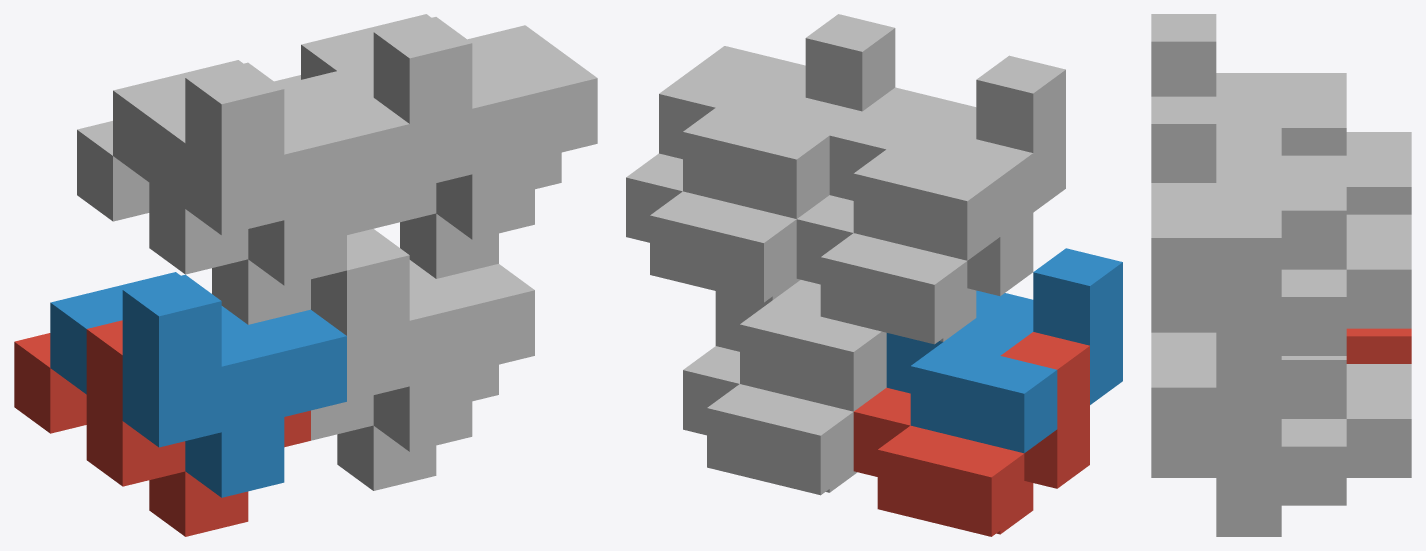
Rendered from tiling.obj.
3 renders of one model, left to right at view 1: azimuth 30°, elevation 25°; view 2: azimuth 150°, elevation 25°; view 3: azimuth 270°, elevation 25°, orthographic. The views are drawn at different scales.
Parts seen in each view (by area): view 1: copy_1_domain_4, copy_1_domain_2, copy_1_domain_8, copy_1_domain_6, copy_1_domain_1, copy_1_domain_3, copy_1_domain_7, copy_1_domain_5; view 2: copy_1_domain_4, copy_1_domain_8, copy_1_domain_2, copy_1_domain_3, copy_1_domain_1, copy_1_domain_7, copy_1_domain_5, copy_1_domain_6; view 3: copy_1_domain_8, copy_1_domain_7, copy_1_domain_5, copy_1_domain_6, copy_1_domain_4, copy_1_domain_3, copy_1_domain_1.
Boxes of the visible parts, left/top/right/bottom form: copy_1_domain_4: left=113, top=60, right=409, bottom=285; copy_1_domain_2: left=50, top=272, right=346, bottom=497; copy_1_domain_8: left=301, top=14, right=597, bottom=239; copy_1_domain_6: left=311, top=229, right=534, bottom=451; copy_1_domain_1: left=14, top=320, right=310, bottom=536; copy_1_domain_3: left=77, top=108, right=373, bottom=324; copy_1_domain_7: left=274, top=62, right=561, bottom=278; copy_1_domain_5: left=211, top=293, right=498, bottom=490; copy_1_domain_4: left=829, top=55, right=1065, bottom=260; copy_1_domain_8: left=659, top=14, right=895, bottom=218; copy_1_domain_2: left=886, top=248, right=1122, bottom=453; copy_1_domain_3: left=796, top=139, right=1033, bottom=344; copy_1_domain_1: left=853, top=332, right=1089, bottom=536; copy_1_domain_7: left=626, top=97, right=861, bottom=302; copy_1_domain_5: left=683, top=346, right=857, bottom=495; copy_1_domain_6: left=715, top=280, right=886, bottom=411; copy_1_domain_8: left=1151, top=96, right=1346, bottom=328; copy_1_domain_7: left=1216, top=155, right=1411, bottom=387; copy_1_domain_5: left=1216, top=364, right=1411, bottom=536; copy_1_domain_6: left=1151, top=328, right=1346, bottom=477; copy_1_domain_4: left=1151, top=14, right=1346, bottom=155; copy_1_domain_3: left=1216, top=73, right=1411, bottom=214; copy_1_domain_1: left=1346, top=328, right=1411, bottom=363.
Bounding box in the file's own units: 7 × 7 × 4.
